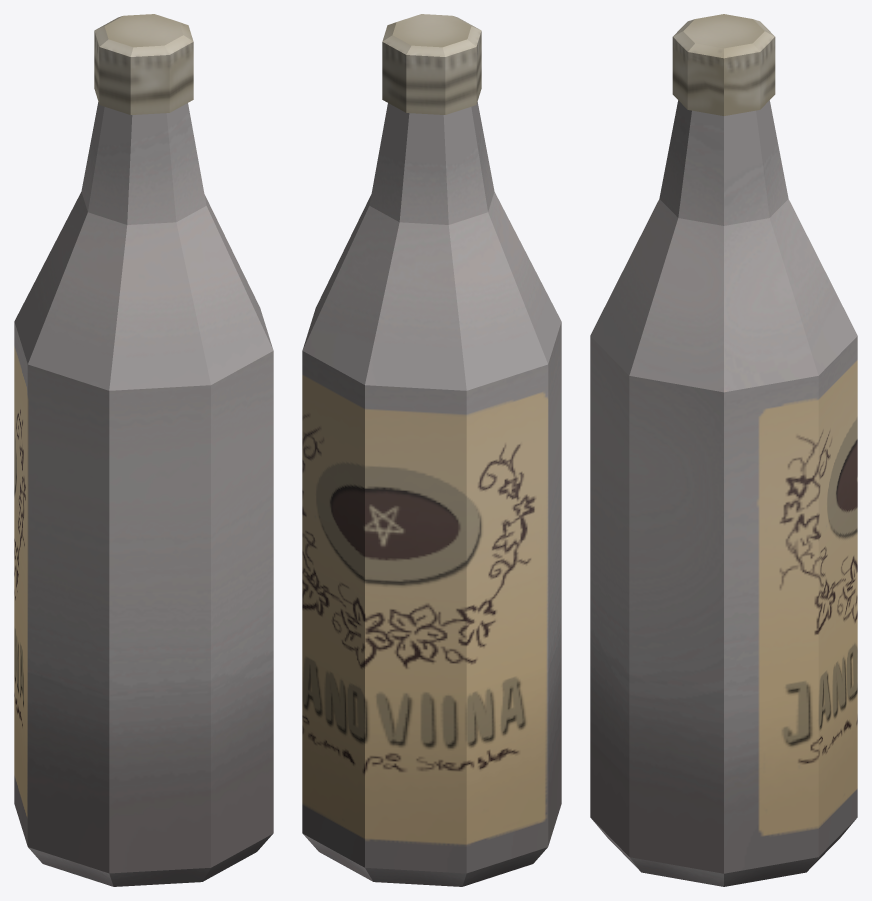
The model's file is jaloviina.obj.
The picture shows the model from 3 angles, left to right: view 1: azimuth 30°, elevation 25°; view 2: azimuth 150°, elevation 25°; view 3: azimuth 270°, elevation 25°; orthographic projection.
Bounding box in the file's own units: 1.89 × 6.29 × 1.89.
1 material, 1 textured.
